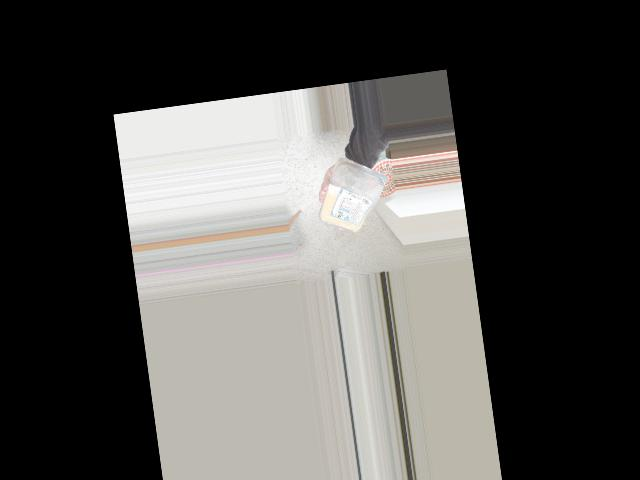cheese: (319, 157, 392, 241)
